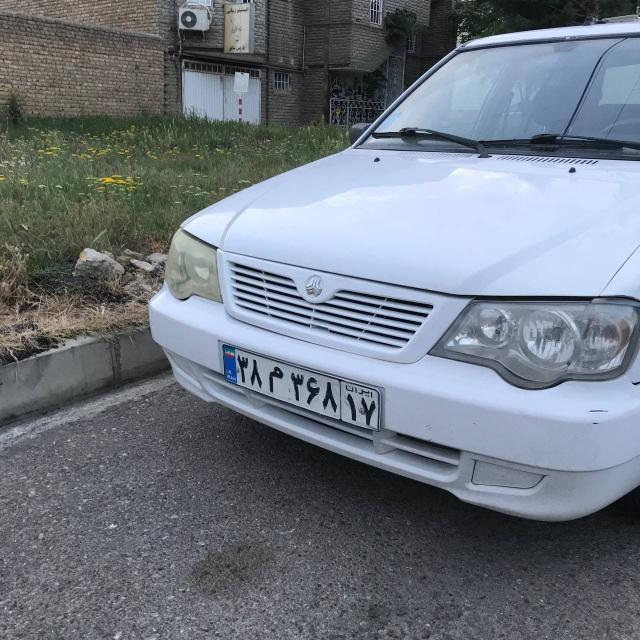Plates: (211, 344, 390, 431)
